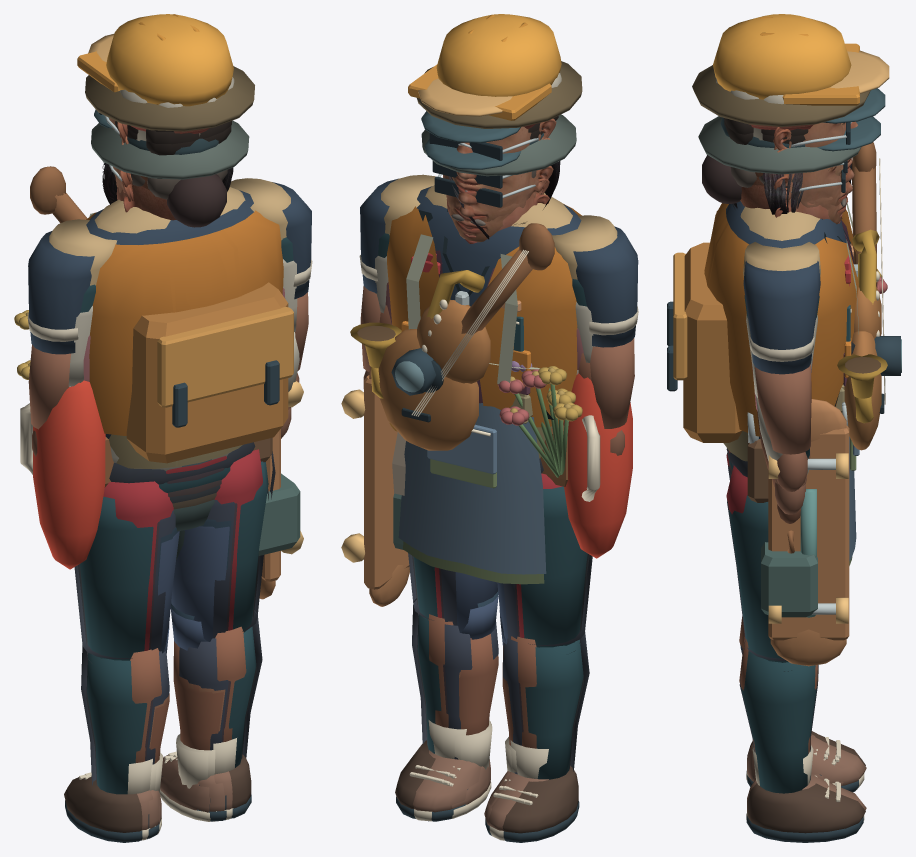
Rendered from street-residents.glb.
3 renders of one model, left to right at view 1: azimuth 30°, elevation 25°; view 2: azimuth 150°, elevation 25°; view 3: azimuth 270°, elevation 25°, orthographic. The views are drawn at different scales.
Visible parts, largest first — view 1: courier torso hard, rigger torso soft, guard torso enamel, rigger head enamel, grease leg_L soft, grease knee_L soft, rigger arm_L soft, skater knee_R soft, angler head soft, skater leg_R soft, reed head soft, rigger knee_L soft (+37 smaller); view 2: rigger torso soft, cook torso soft, busker torso enamel, rigger head enamel, guard torso enamel, skater torso hard, grease leg_L soft, grease knee_L soft, rigger arm_L soft, skater knee_R soft, rigger knee_L soft, florist torso soft (+42 smaller); view 3: rigger torso soft, skater torso hard, courier torso hard, rigger head enamel, grease knee_R soft, rigger arm_R soft, rigger knee_R soft, rigger elbow_R soft, angler head soft, grease leg_R soft, reed head soft, angler torso hard (+28 smaller).
Part boxes in pixels (bbox=[...]): courier torso hard: bbox=[126, 282, 293, 463]; rigger torso soft: bbox=[86, 190, 283, 484]; guard torso enamel: bbox=[33, 380, 105, 569]; rigger head enamel: bbox=[106, 14, 233, 106]; grease leg_L soft: bbox=[79, 496, 153, 660]; grease knee_L soft: bbox=[87, 653, 147, 840]; rigger arm_L soft: bbox=[27, 231, 94, 354]; skater knee_R soft: bbox=[159, 641, 223, 821]; angler head soft: bbox=[91, 120, 249, 199]; skater leg_R soft: bbox=[170, 526, 229, 650]; reed head soft: bbox=[85, 66, 254, 131]; rigger knee_L soft: bbox=[64, 643, 142, 842]; rigger torso soft: bbox=[387, 186, 581, 473]; cook torso soft: bbox=[392, 403, 546, 574]; busker torso enamel: bbox=[378, 299, 490, 450]; rigger head enamel: bbox=[436, 14, 561, 96]; guard torso enamel: bbox=[563, 373, 632, 558]; skater torso hard: bbox=[364, 367, 409, 606]; grease leg_L soft: bbox=[521, 486, 587, 647]; grease knee_L soft: bbox=[525, 639, 583, 779]; rigger arm_L soft: bbox=[573, 226, 638, 347]; skater knee_R soft: bbox=[451, 634, 498, 818]; rigger knee_L soft: bbox=[502, 632, 589, 842]; florist torso soft: bbox=[403, 361, 582, 584]; rigger torso soft: bbox=[704, 201, 858, 477]; skater torso hard: bbox=[768, 399, 849, 666]; courier torso hard: bbox=[667, 242, 742, 442]; rigger head enamel: bbox=[713, 14, 851, 99]; grease knee_R soft: bbox=[741, 651, 816, 793]; rigger arm_R soft: bbox=[743, 261, 820, 374]; rigger knee_R soft: bbox=[739, 641, 865, 842]; rigger elbow_R soft: bbox=[754, 364, 811, 491]; angler head soft: bbox=[698, 116, 861, 206]; grease leg_R soft: bbox=[729, 495, 788, 662]; reed head soft: bbox=[692, 65, 870, 126]; angler torso hard: bbox=[761, 384, 844, 617].
Size of the model in its own units: 0.6873 by 1.88 by 0.5134.
13 materials, 6 textured.
